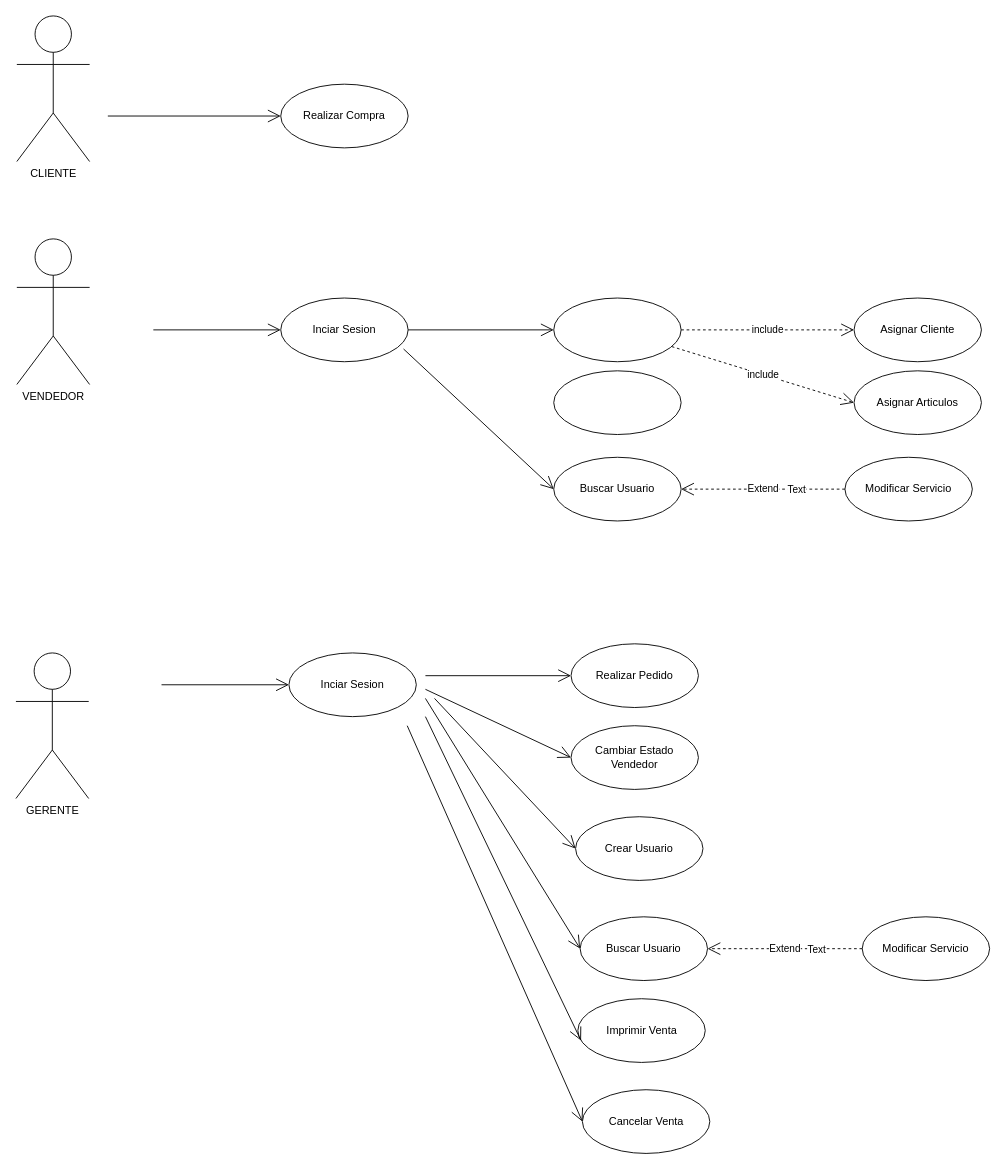
Some shapes in this 1006 by 1169 pixel diagram are drawn without their labels. Here are the shapes that lost their labels. From the top down, the box of each, then its label:
(553, 297, 681, 362): Registrar Venta
(553, 370, 681, 435): Registrar Cliente
